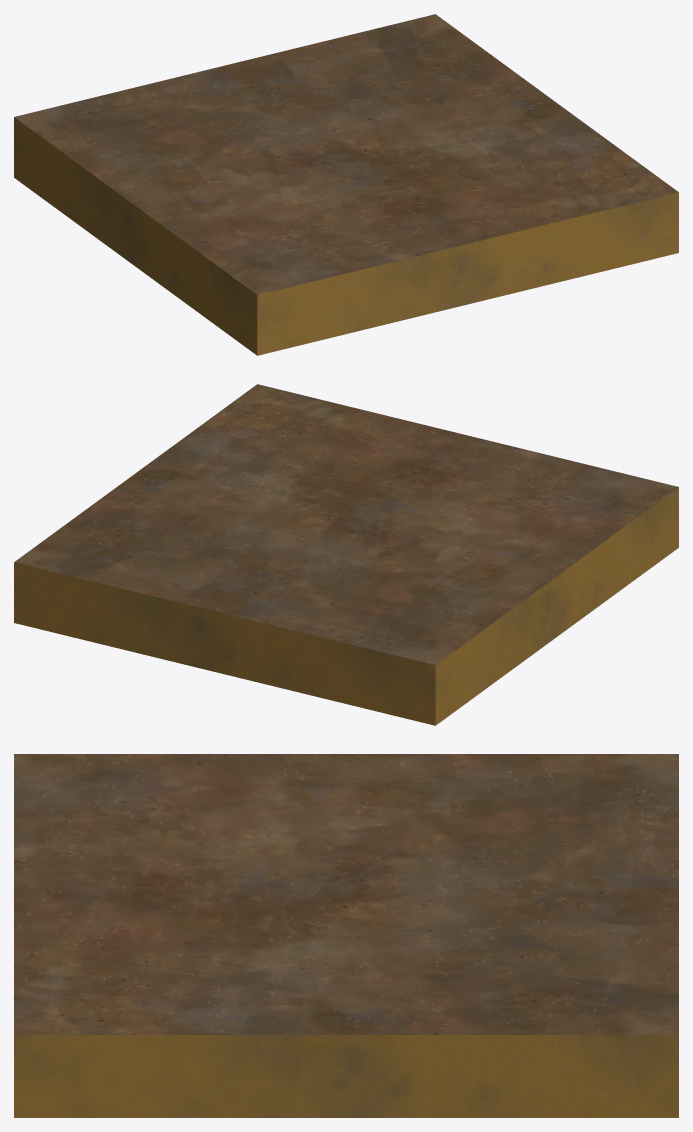
3 renders of one model, top to bottom at view 1: azimuth 30°, elevation 25°; view 2: azimuth 150°, elevation 25°; view 3: azimuth 270°, elevation 25°, orthographic. The views are drawn at different scales.
Parts seen in each view (by area): view 1: SM_Vault_4x4_Ceiling_01_LOD0; view 2: SM_Vault_4x4_Ceiling_01_LOD0; view 3: SM_Vault_4x4_Ceiling_01_LOD0.
Part boxes in pixels (x1,y1,x2,y2): SM_Vault_4x4_Ceiling_01_LOD0: [14, 14, 678, 355]; SM_Vault_4x4_Ceiling_01_LOD0: [14, 384, 678, 725]; SM_Vault_4x4_Ceiling_01_LOD0: [14, 754, 678, 1117].
Size of the model in its own units: 4 by 0.5675 by 4.
Materials: 2 (2 with a texture image).
